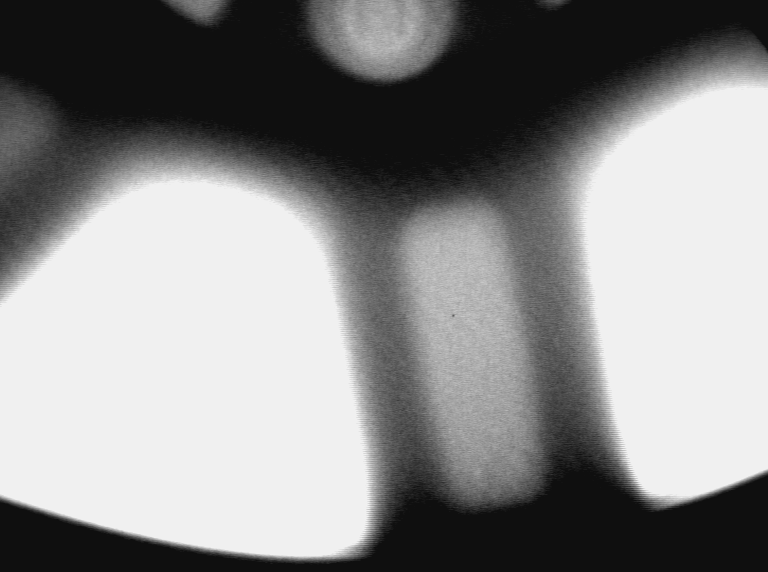defect: (480, 484, 502, 504)
